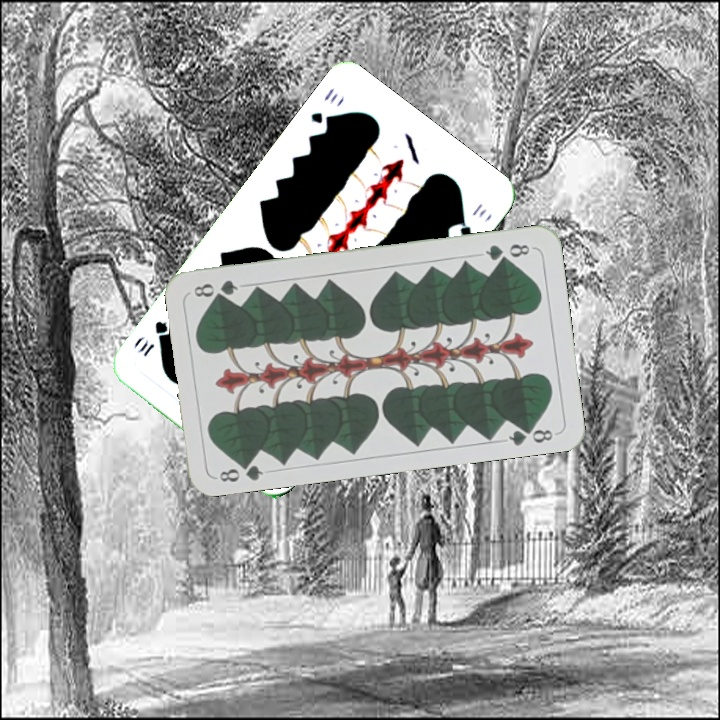G10: (306, 83, 341, 129)
G8: (215, 455, 266, 485), (481, 239, 536, 264)
